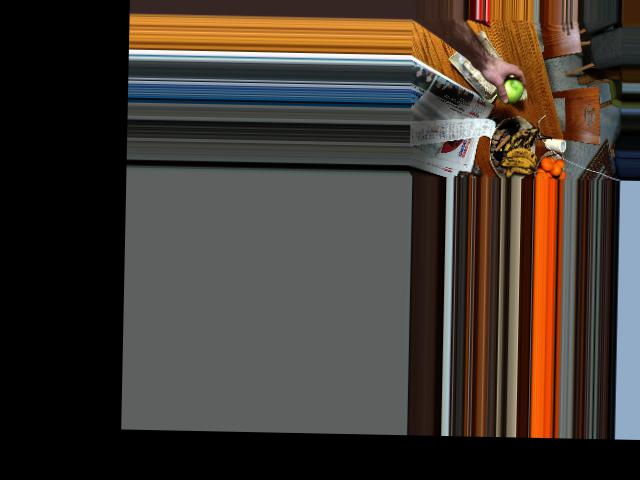apple: (496, 75, 523, 103)
